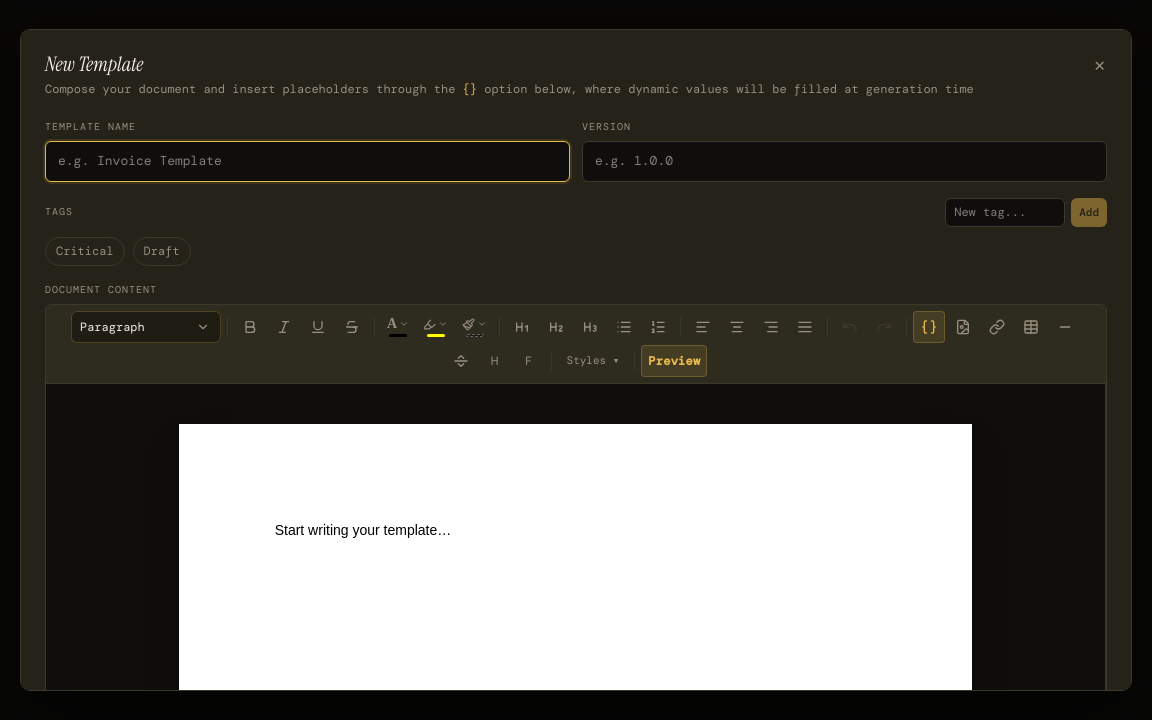
Tag Management UI › CreateTemplateModal inline tags › rejects inline tag creation when the name already exists
The image size is (1152, 720).
In the field with placeholder "New tag...": (1005, 212) [945,198,1065,227], type "Draft"
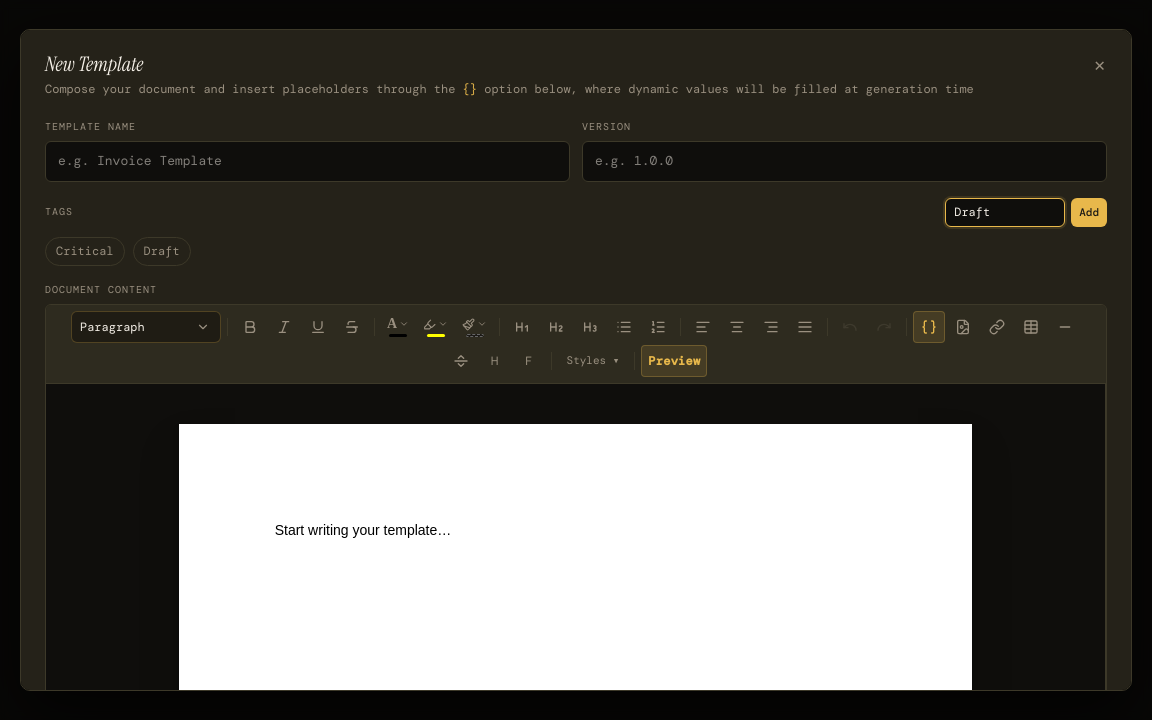
Click the button "Add": (1089, 212) [1071,198,1107,227]
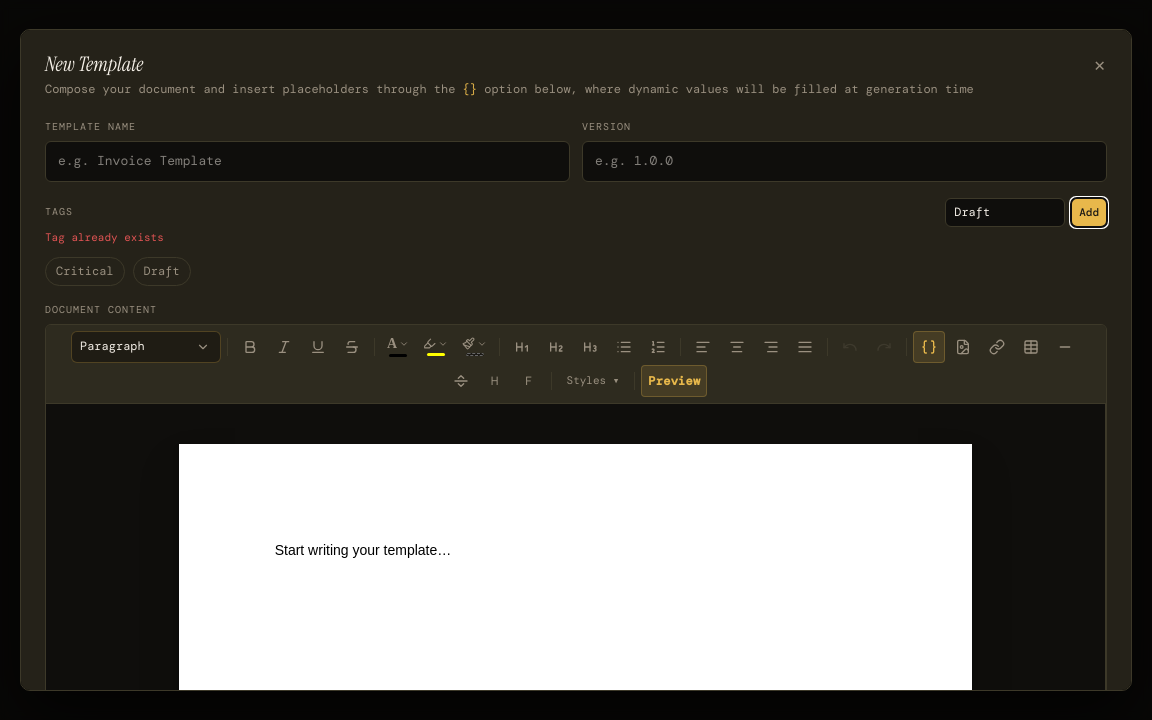
Result: the text "Tag already exists" is shown at [45,230,164,244]
